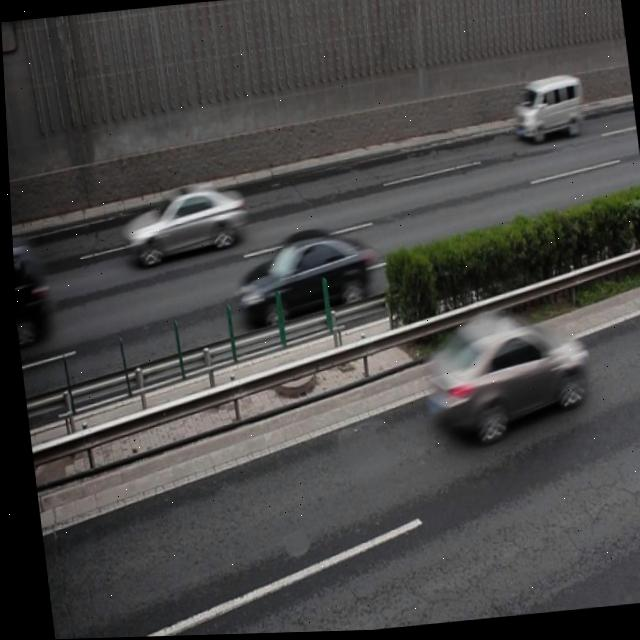car: (414, 303, 587, 448), (225, 224, 374, 328), (116, 178, 247, 270)
truck: (507, 77, 585, 143)
